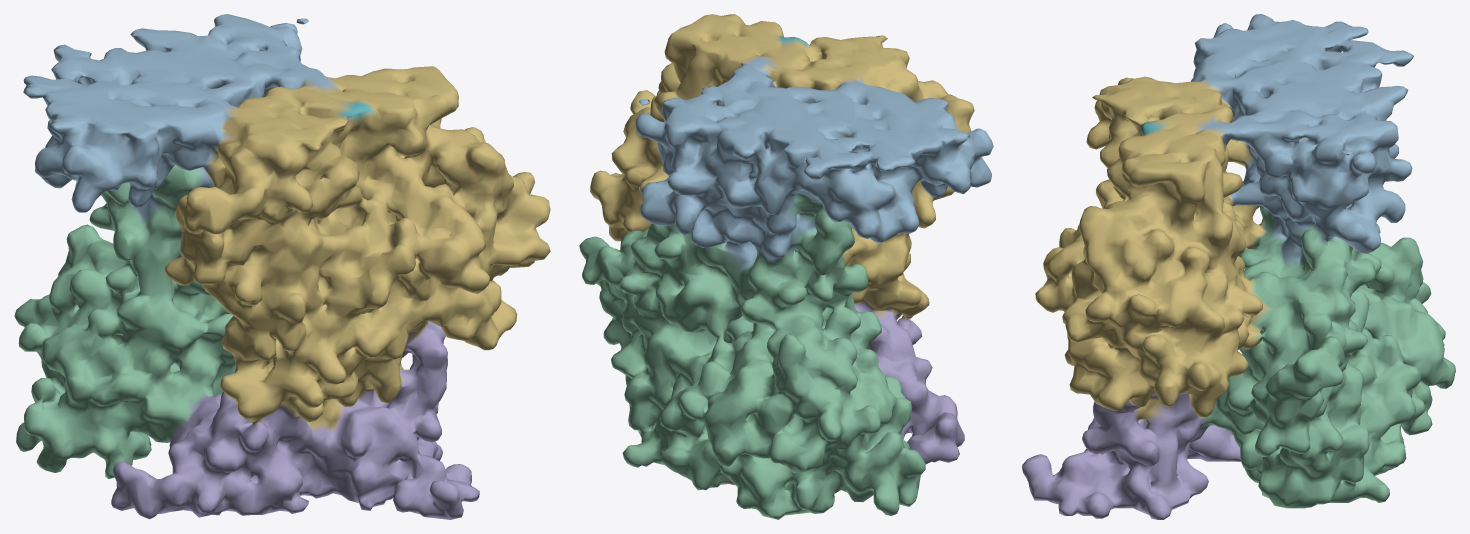
File: pdb-6bno-actin.glb
3 renders of one model, left to right at view 1: azimuth 30°, elevation 25°; view 2: azimuth 150°, elevation 25°; view 3: azimuth 270°, elevation 25°, orthographic. The views are drawn at different scales.
Visible parts, largest first — view 1: Actin Filament; view 2: Actin Filament; view 3: Actin Filament.
Part boxes in pixels (box(x1,y1,x2,y2)): Actin Filament: box(14, 14, 550, 519); Actin Filament: box(579, 14, 993, 519); Actin Filament: box(1022, 14, 1455, 519).
Bounding box in the file's own units: 8.63 × 7 × 7.76.
